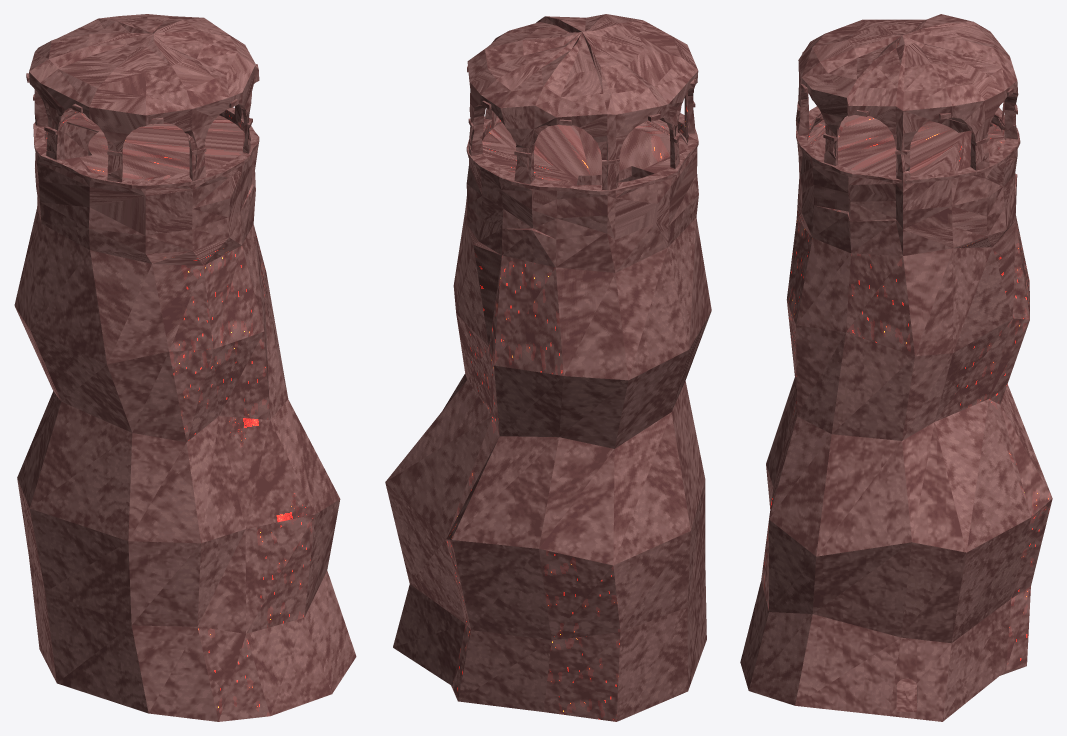
File: tower_hollow.glb
The picture shows the model from 3 angles, left to right: view 1: azimuth 30°, elevation 25°; view 2: azimuth 150°, elevation 25°; view 3: azimuth 270°, elevation 25°; orthographic projection. The views are drawn at different scales.
Visible parts, largest first — view 1: TowerRock; view 2: TowerRock; view 3: TowerRock.
Part boxes in pixels (bbox=[...]): TowerRock: bbox=[14, 14, 356, 721]; TowerRock: bbox=[385, 14, 711, 721]; TowerRock: bbox=[740, 14, 1052, 721].
Size of what is drawn, in the model's own units: 22.05 by 47.46 by 21.98.
